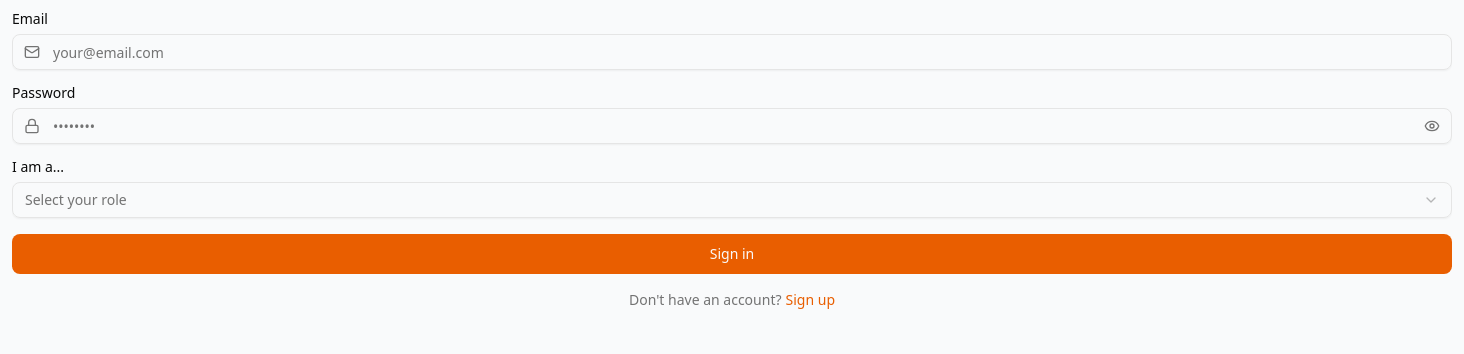
Login Form › shows an email validation error when an invalid email is entered
In the field labelled "Email": [732, 52] box [12,34,1452,70], type "companyacc01"
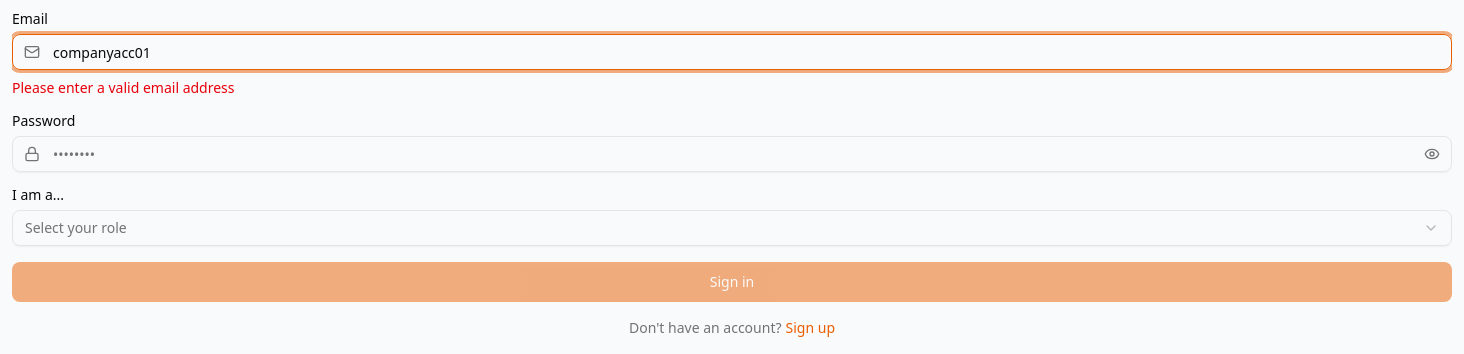
Now the text "Please enter a valid email address" is shown, box [12,78,234,97]
